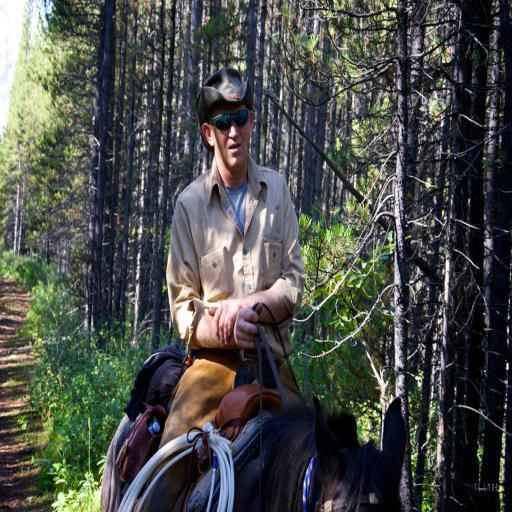horse: (99, 396, 405, 512)
